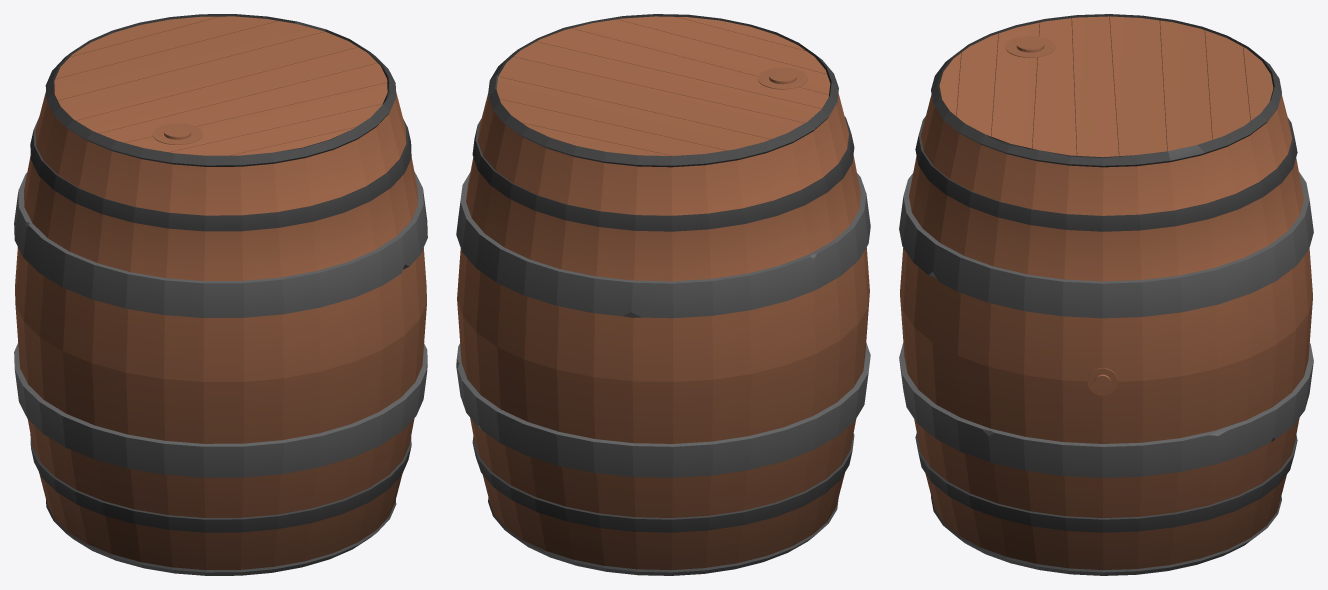
Rendered from Single Large Med Barrel Closed.fbx.
3 views of the same model, side by side, from view 1: azimuth 30°, elevation 25°; view 2: azimuth 150°, elevation 25°; view 3: azimuth 270°, elevation 25° (orthographic).
Parts seen in each view (by area): view 1: Single Large Med Barrel Closed; view 2: Single Large Med Barrel Closed; view 3: Single Large Med Barrel Closed.
Boxes of the visible parts, <box> form: Single Large Med Barrel Closed: <box>14,14,427,575</box>; Single Large Med Barrel Closed: <box>456,14,870,575</box>; Single Large Med Barrel Closed: <box>899,14,1313,575</box>.
Size of the model in its own units: 424 by 379 by 381.
Materials: 1 (1 with a texture image).
